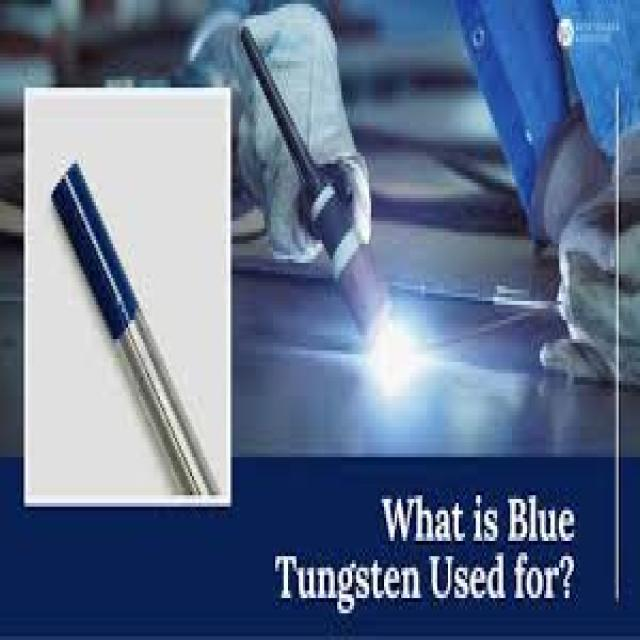welding: (372, 311, 422, 393)
